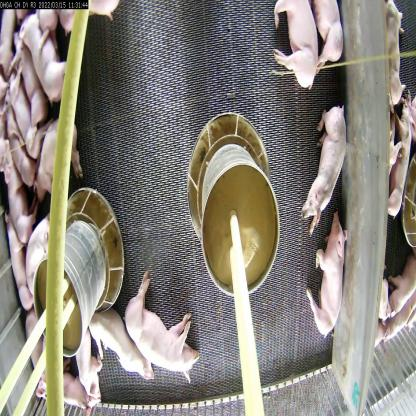Pig: (119, 264, 205, 393), (306, 99, 346, 241), (84, 304, 153, 377), (272, 0, 318, 108), (21, 14, 73, 109), (25, 120, 84, 198), (312, 209, 344, 345), (9, 24, 48, 129), (7, 70, 44, 159), (308, 0, 349, 75), (26, 314, 54, 416), (5, 146, 34, 240), (4, 220, 30, 322), (76, 328, 104, 400)
